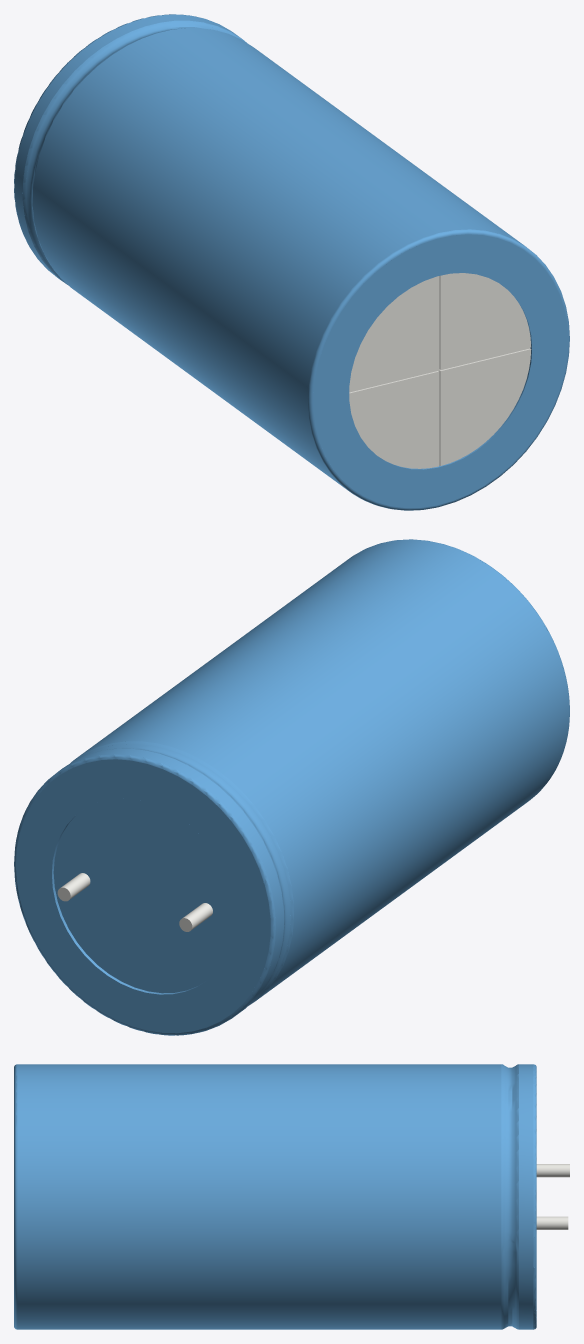
Rendered from C_Radial_D16.0mm_H31.5mm_P7.50mm.glb.
3 views of the same model, one above another, from view 1: azimuth 30°, elevation 25°; view 2: azimuth 150°, elevation 25°; view 3: azimuth 270°, elevation 25° (orthographic). The views are drawn at different scales.
Visible parts, largest first — view 1: Shape_IndexedFaceSet.012, Shape_IndexedFaceSet.014, Shape_IndexedFaceSet.018, Shape_IndexedFaceSet.027, Shape_IndexedFaceSet.021, Shape_IndexedFaceSet.024, Shape_IndexedFaceSet.013, Shape_IndexedFaceSet.008, Shape_IndexedFaceSet.010, Shape_IndexedFaceSet.009; view 2: Shape_IndexedFaceSet.012, Shape_IndexedFaceSet.005, Shape_IndexedFaceSet.002, Shape_IndexedFaceSet.007, Shape_IndexedFaceSet.008, Shape_IndexedFaceSet.010, Shape_IndexedFaceSet.011, Shape_IndexedFaceSet.003; view 3: Shape_IndexedFaceSet.012, Shape_IndexedFaceSet.008, Shape_IndexedFaceSet.010, Shape_IndexedFaceSet.011, Shape_IndexedFaceSet.013, Shape_IndexedFaceSet.007, Shape_IndexedFaceSet.009, Shape_IndexedFaceSet.004, Shape_IndexedFaceSet.001.
Boxes of the visible parts, <box> form: Shape_IndexedFaceSet.012: <box>33,28,524,488</box>; Shape_IndexedFaceSet.014: <box>313,234,567,507</box>; Shape_IndexedFaceSet.018: <box>440,349,531,465</box>; Shape_IndexedFaceSet.027: <box>440,273,530,369</box>; Shape_IndexedFaceSet.021: <box>349,371,438,468</box>; Shape_IndexedFaceSet.024: <box>349,276,438,391</box>; Shape_IndexedFaceSet.013: <box>308,229,569,510</box>; Shape_IndexedFaceSet.008: <box>14,14,241,279</box>; Shape_IndexedFaceSet.010: <box>26,23,236,274</box>; Shape_IndexedFaceSet.009: <box>22,20,246,285</box>; Shape_IndexedFaceSet.012: <box>76,539,569,1000</box>; Shape_IndexedFaceSet.005: <box>16,759,270,1033</box>; Shape_IndexedFaceSet.002: <box>53,798,234,993</box>; Shape_IndexedFaceSet.007: <box>14,754,275,1035</box>; Shape_IndexedFaceSet.008: <box>60,748,283,1015</box>; Shape_IndexedFaceSet.010: <box>80,744,290,994</box>; Shape_IndexedFaceSet.011: <box>71,741,293,1005</box>; Shape_IndexedFaceSet.003: <box>52,815,205,994</box>; Shape_IndexedFaceSet.012: <box>17,1064,501,1329</box>; Shape_IndexedFaceSet.008: <box>519,1064,533,1329</box>; Shape_IndexedFaceSet.010: <box>504,1066,515,1327</box>; Shape_IndexedFaceSet.011: <box>501,1064,504,1329</box>; Shape_IndexedFaceSet.013: <box>14,1064,17,1329</box>; Shape_IndexedFaceSet.007: <box>533,1064,536,1329</box>; Shape_IndexedFaceSet.009: <box>515,1064,518,1329</box>; Shape_IndexedFaceSet.004: <box>536,1164,569,1177</box>; Shape_IndexedFaceSet.001: <box>536,1216,568,1229</box>.
Bounding box in the file's own units: 6.3 × 6.3 × 13.19.
